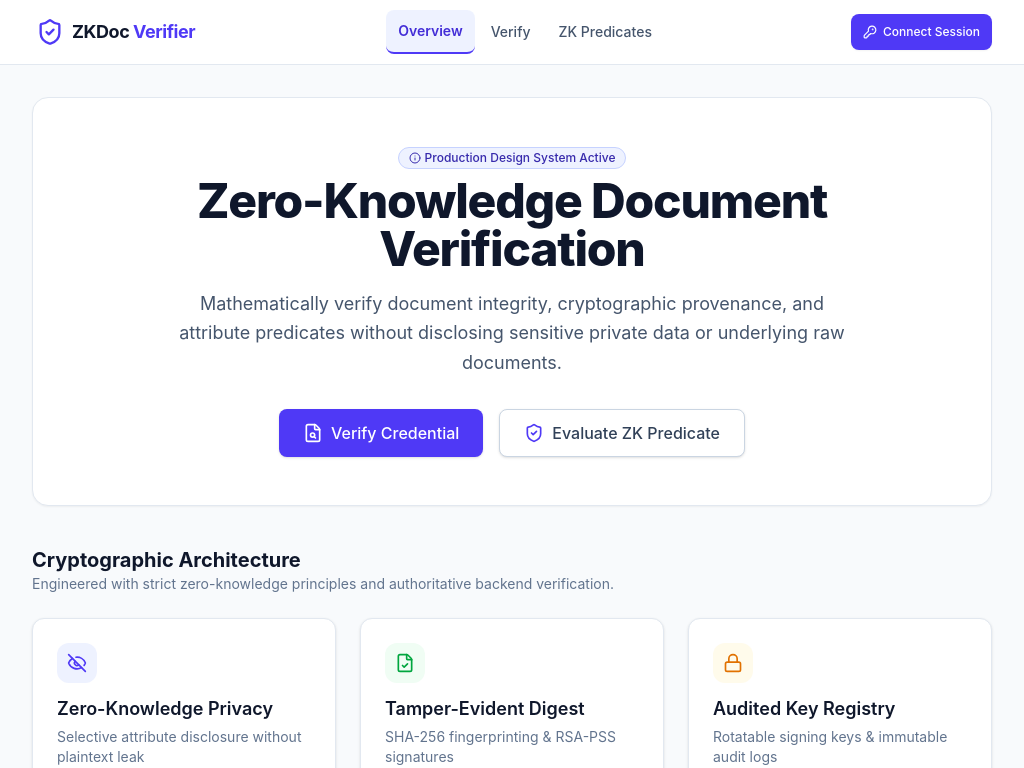
Test: App Root and Foundation Routing › navigates to /verify route when clicking Verify link
Click the link "Verify" at point(511, 32), box [491, 23, 530, 40]
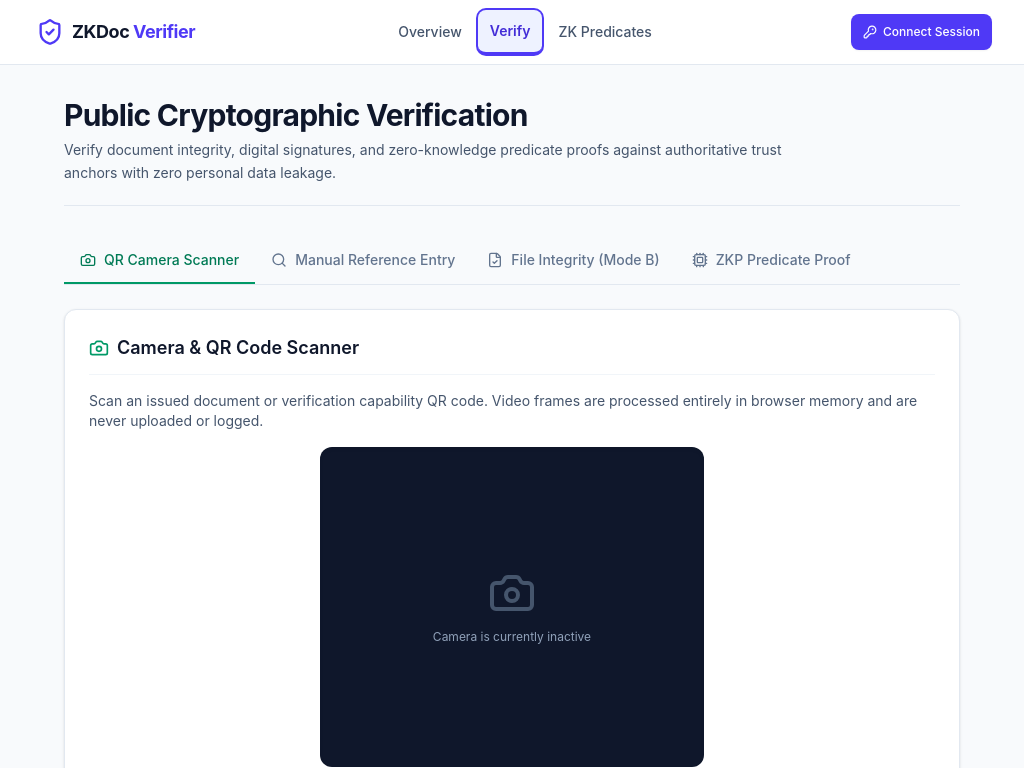
Expected: the heading "Public Cryptographic Verification" is shown, [64, 97, 528, 133]
